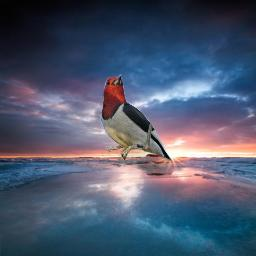Woodpecker: (97, 70, 177, 172)
